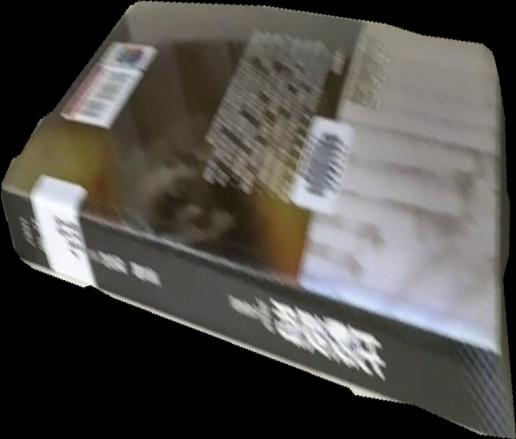flat: (1, 1, 516, 439)
